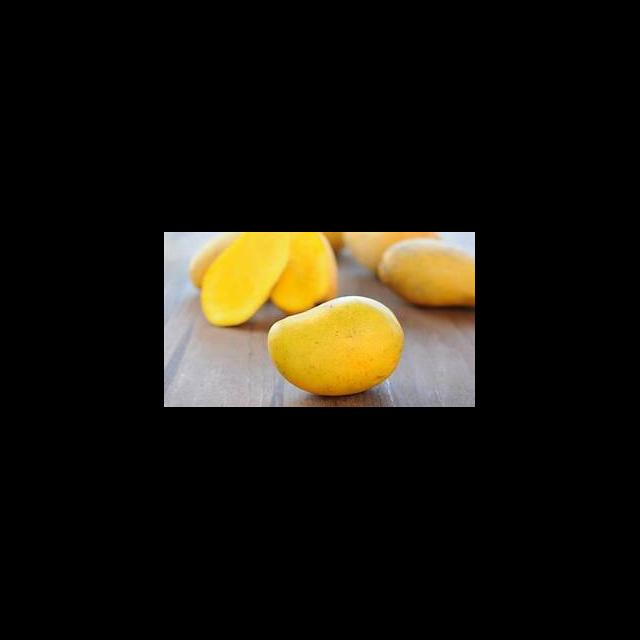mango: (270, 296, 406, 398)
